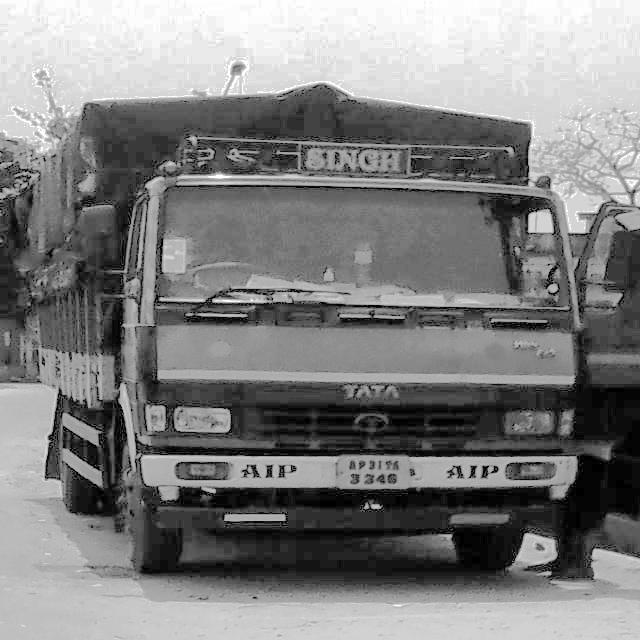HCV: (118, 113, 604, 568)
